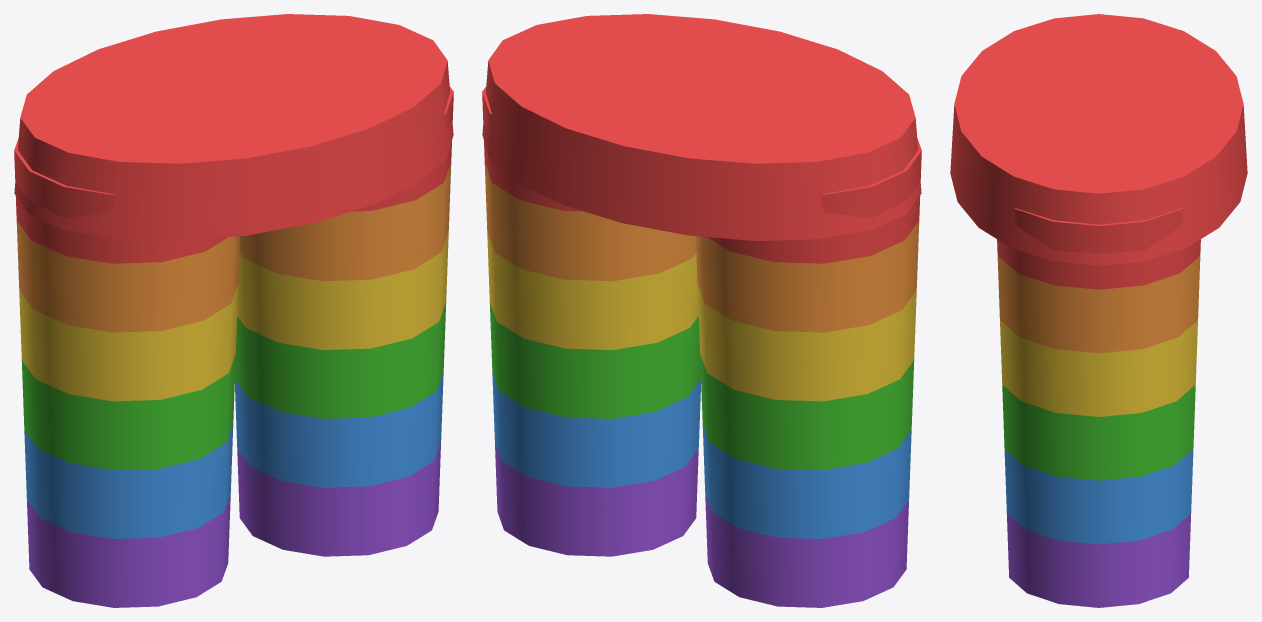
File: bottom_fun_1.glb
3 views of the same model, side by side, from view 1: azimuth 30°, elevation 25°; view 2: azimuth 150°, elevation 25°; view 3: azimuth 270°, elevation 25° (orthographic). The views are drawn at different scales.
Size of the model in its own units: 0.4144 by 0.4368 by 0.2818.
